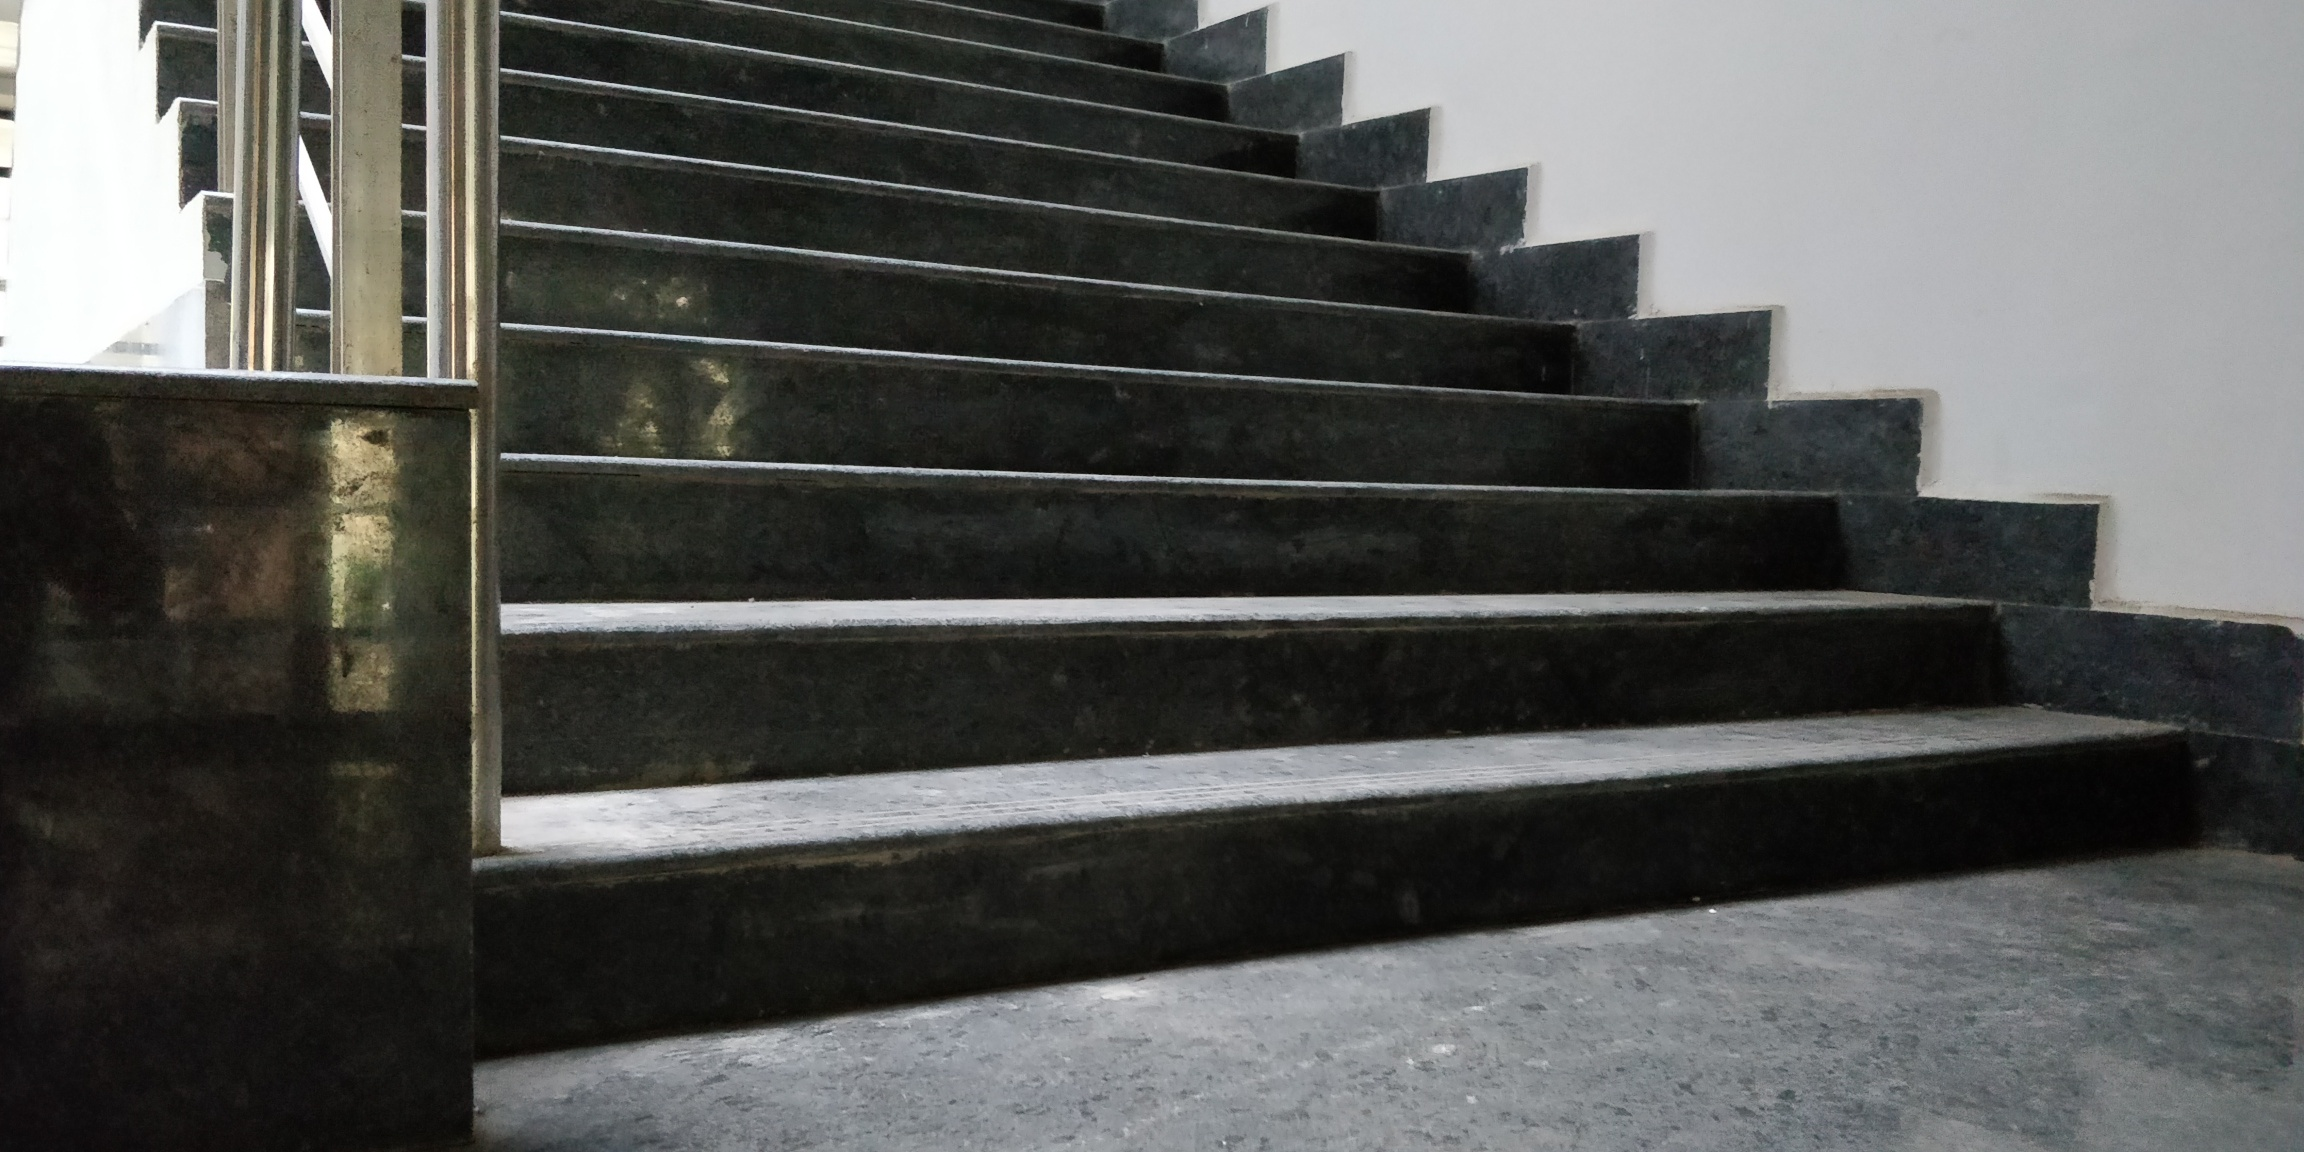stairs_up: (192, 24, 2166, 921)
